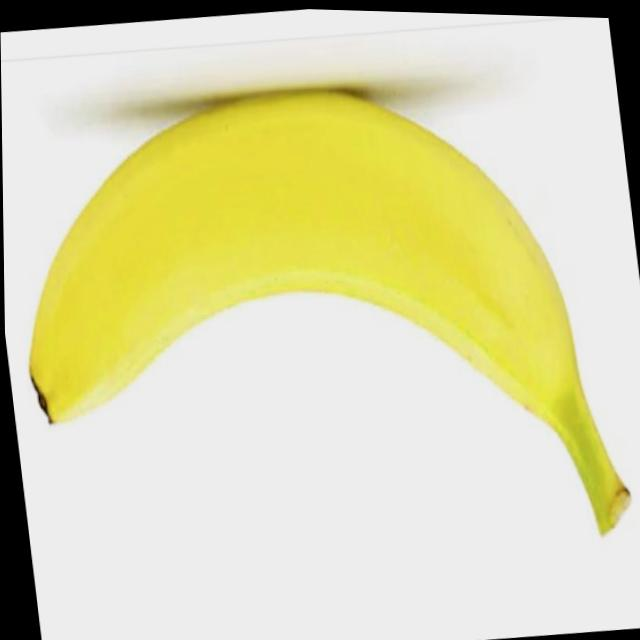Banana: (1, 51, 635, 593)
